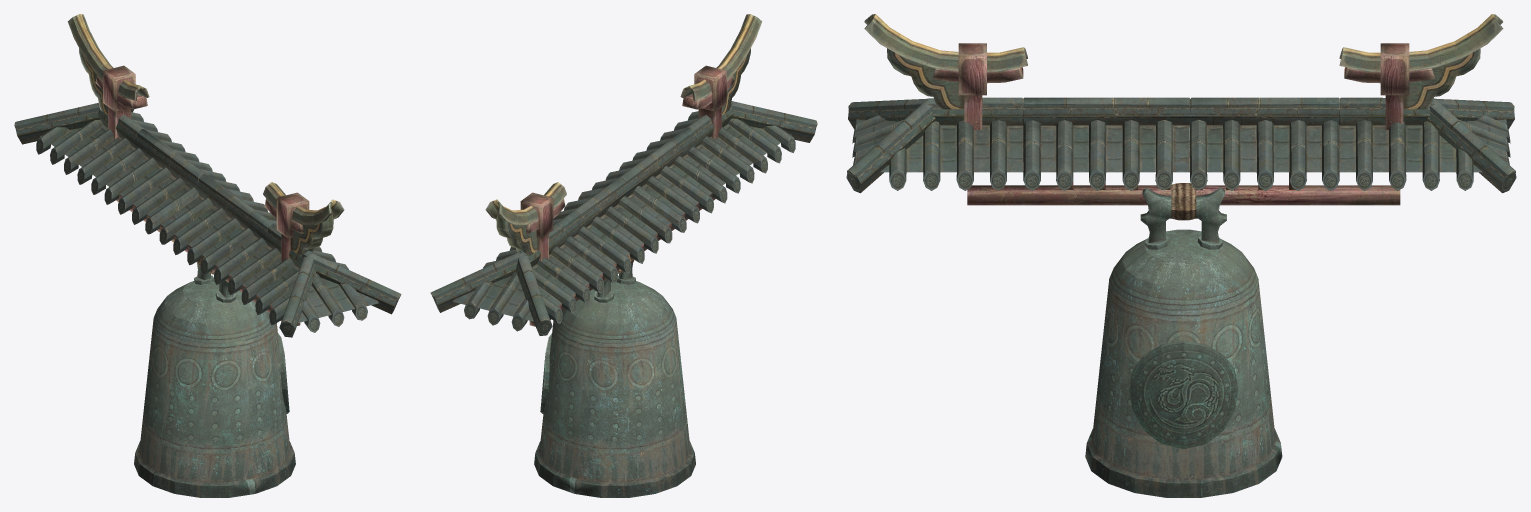
File: bg_anh_mirrorv_bell01_sm_old.FBX
3 renders of one model, left to right at view 1: azimuth 30°, elevation 25°; view 2: azimuth 150°, elevation 25°; view 3: azimuth 270°, elevation 25°, orthographic. The views are drawn at different scales.
Parts seen in each view (by area): view 1: bg_anh_mirrorv_bell01_sm_old; view 2: bg_anh_mirrorv_bell01_sm_old; view 3: bg_anh_mirrorv_bell01_sm_old.
Boxes of the visible parts, box(x1,y1,x2,y2) form: bg_anh_mirrorv_bell01_sm_old: box(14, 14, 401, 497); bg_anh_mirrorv_bell01_sm_old: box(430, 14, 817, 497); bg_anh_mirrorv_bell01_sm_old: box(846, 14, 1516, 497).
Size of the model in its own units: 149 by 371 by 513.
